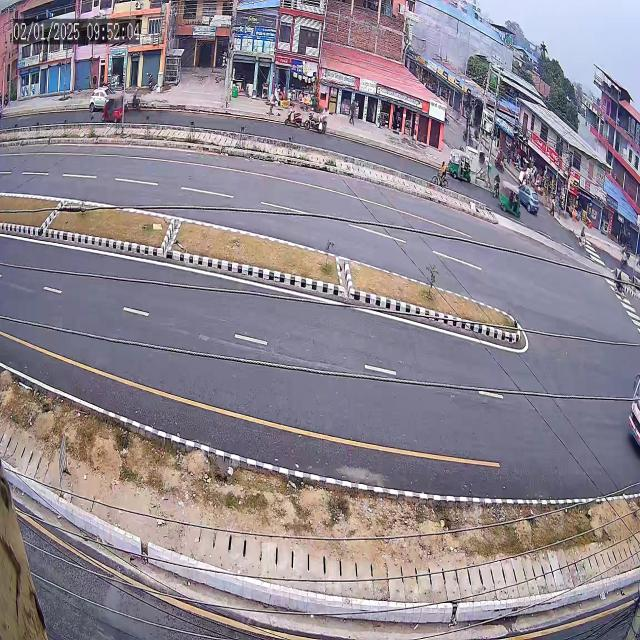auto: (445, 144, 476, 188), (499, 176, 525, 225), (101, 93, 130, 129)
car: (514, 174, 542, 218)
cycle: (428, 154, 450, 190)
motorcycle: (304, 113, 332, 135), (285, 104, 303, 133)
